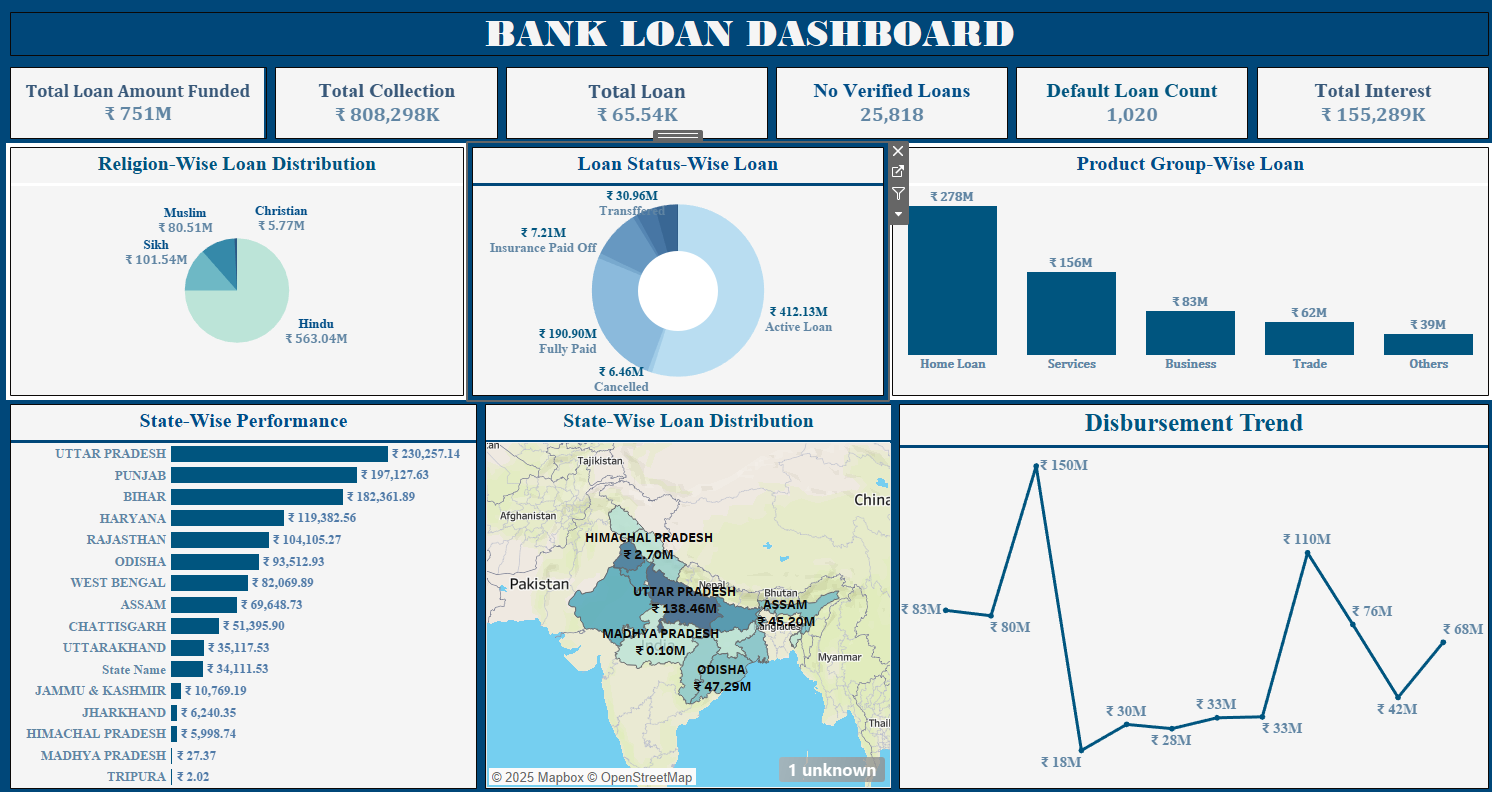

This screenshot's page, from the dashboard's own definition file:
{"tool":"tableau","page":{"name":"Dashboard 1","canvas":[1000,1000],"units":"permille","ordinal":0},"visuals":[{"type":"title","box":[4.8,10,897.4,64.9]},{"type":"filter","title":"State-Wise Performance","param":"[federated.1kfujmh1aarebc15erkji1qe8vi7].[none:State_Name:nk]","box":[902.2,10,92.9,299.6]},{"type":"worksheet","title":"Total loan amount funded","mark":"Text","box":[4.8,79.2,159.7,99.3]},{"type":"worksheet","title":"Total Collection","mark":"Automatic","box":[164.6,79.2,139.4,99.3]},{"type":"worksheet","title":"Total Loans","mark":"Automatic","box":[304,79.2,163,99.3]},{"type":"worksheet","title":"No Verified Loans","mark":"Automatic","box":[466.9,79.2,145.1,99.3]},{"type":"worksheet","title":"Default Loan Count","mark":"Automatic","box":[612,79.2,145.1,99.3]},{"type":"worksheet","title":"Total Interest","mark":"Automatic","box":[757.1,79.2,145.1,99.3]},{"type":"worksheet","title":"Religion-Wise Loan Distribution","mark":"Pie","box":[4.8,178.5,278.8,320.3]},{"type":"worksheet","title":"Loan Status-Wise Loan","mark":"Circle","rows":["Calculation_873416870375927813","Calculation_873416870375940103"],"box":[283.7,178.5,253.4,320.3]},{"type":"worksheet","title":"Product Group-Wise Loan","mark":"Bar","rows":["Loan_Amount"],"cols":["Purpose_Category"],"box":[537.1,178.5,365.2,320.3]},{"type":"filter","title":"Disbursement Trend","param":"[federated.1kfujmh1aarebc15erkji1qe8vi7].[mn:Disbursement_Date:qk]","box":[902.2,309.6,92.9,91.1]},{"type":"filter","title":"Loan Status-Wise Loan","param":"[federated.1kfujmh1aarebc15erkji1qe8vi7].[none:Loan_Status:nk]","box":[902.2,400.8,92.9,299.6]},{"type":"worksheet","title":"State-Wise Performance","mark":"Automatic","rows":["State_Name"],"cols":["Total_Fees"],"box":[4.8,498.8,286.4,491.2]},{"type":"worksheet","title":"State-Wise Loan Distribution","mark":"Automatic","box":[291.2,498.8,250.2,491.2]},{"type":"worksheet","title":"Disbursement Trend","mark":"Automatic","rows":["Loan_Amount"],"cols":["Disbursement_Date"],"box":[541.4,498.8,360.8,491.2]},{"type":"filter","title":"State-Wise Performance","param":"[federated.1kfujmh1aarebc15erkji1qe8vi7].[none:Grade:nk]","box":[902.2,700.4,92.9,289.6]}]}

Visuals, with their boxes on the dashboard's canvas, which has no fixed pixel size, in thousandths of its width and height (x1, y1, x2, y2). These are canvas units, not pixel positions in the 1492x792 screenshot, which may show the page scaled, cropped or inside an application window:
title: <box>5,10,902,75</box>
"State-Wise Performance" filter: <box>902,10,995,310</box>
"Total loan amount funded" worksheet (Text marks): <box>5,79,164,178</box>
"Total Collection" worksheet: <box>165,79,304,178</box>
"Total Loans" worksheet: <box>304,79,467,178</box>
"No Verified Loans" worksheet: <box>467,79,612,178</box>
"Default Loan Count" worksheet: <box>612,79,757,178</box>
"Total Interest" worksheet: <box>757,79,902,178</box>
"Religion-Wise Loan Distribution" worksheet (Pie marks): <box>5,178,284,499</box>
"Loan Status-Wise Loan" worksheet (Circle marks): <box>284,178,537,499</box>
"Product Group-Wise Loan" worksheet (Bar marks): <box>537,178,902,499</box>
"Disbursement Trend" filter: <box>902,310,995,401</box>
"Loan Status-Wise Loan" filter: <box>902,401,995,700</box>
"State-Wise Performance" worksheet: <box>5,499,291,990</box>
"State-Wise Loan Distribution" worksheet: <box>291,499,541,990</box>
"Disbursement Trend" worksheet: <box>541,499,902,990</box>
"State-Wise Performance" filter: <box>902,700,995,990</box>
